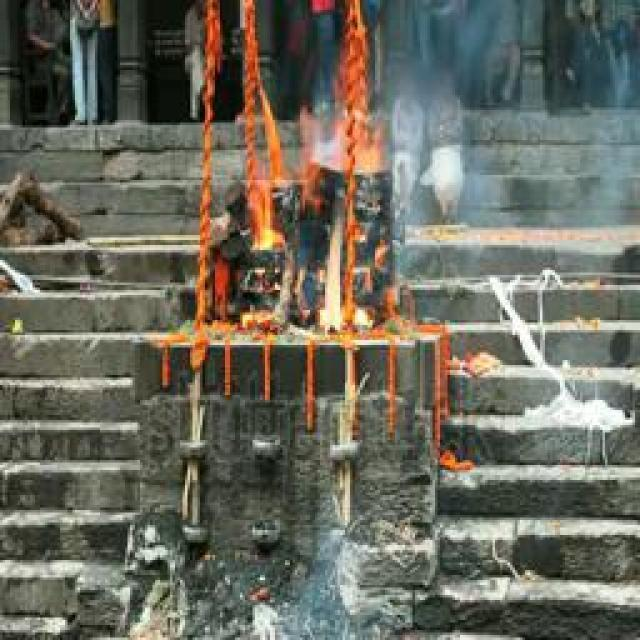Fire: (239, 90, 370, 337)
